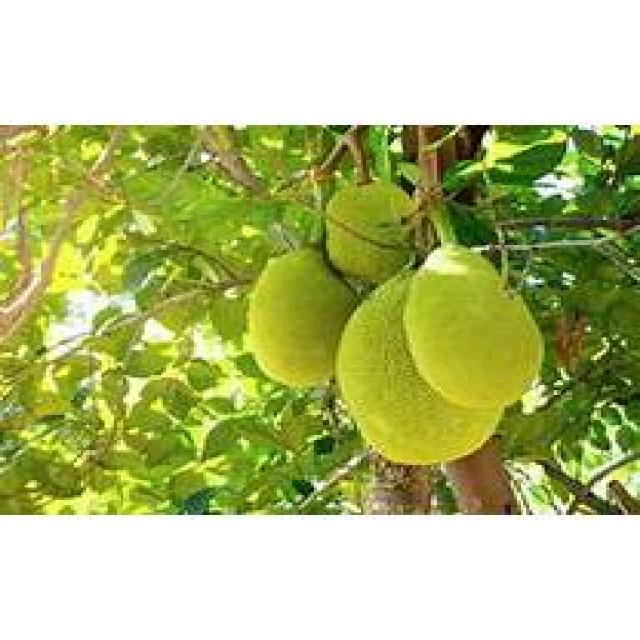Fruit: (317, 238, 560, 478)
